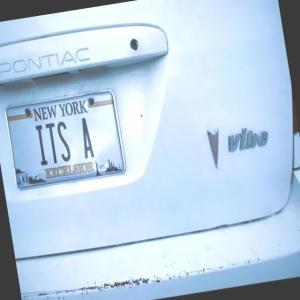Plate: (3, 88, 127, 193)
